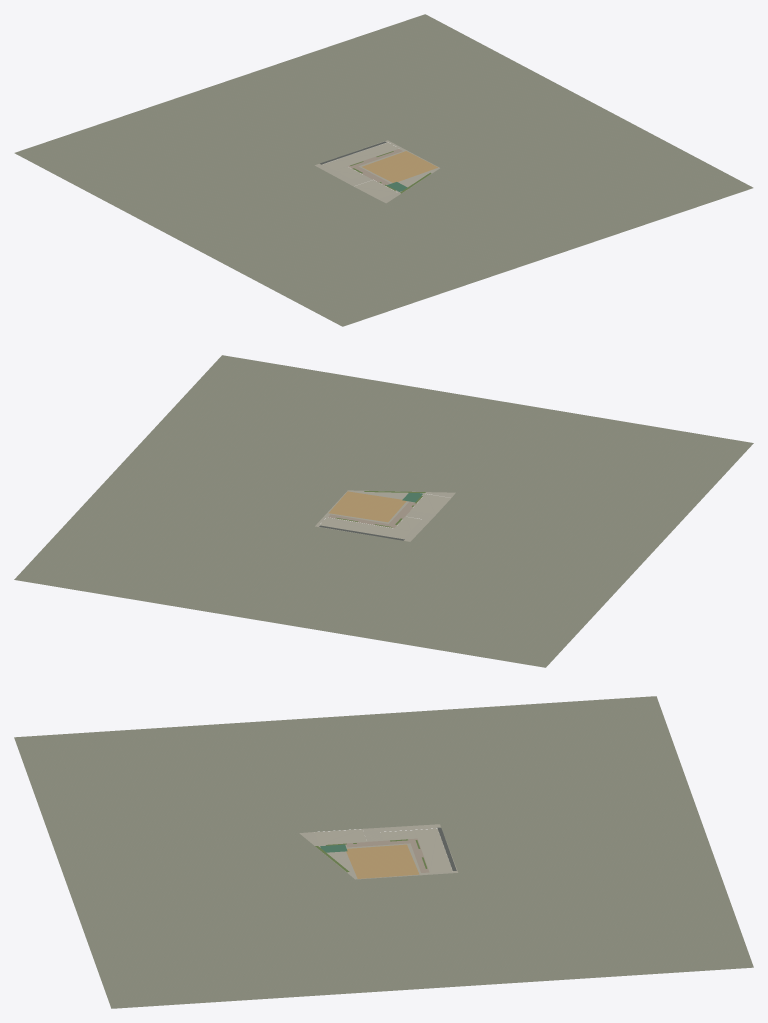
3 renders of one model, top to bottom at view 1: azimuth 30°, elevation 25°; view 2: azimuth 150°, elevation 25°; view 3: azimuth 270°, elevation 25°, orthographic. The views are drawn at different scales.
Parts seen in each view (by area): view 1: ground_context-estimated, surface_sports-field, surface_school-walk, surface_underbuilding-main; view 2: ground_context-estimated, surface_sports-field, surface_school-walk, surface_underbuilding-main, surface_underbuilding-gyeonginHall; view 3: ground_context-estimated, surface_sports-field, surface_school-walk, surface_underbuilding-main, surface_underbuilding-gyeonginHall.
Boxes of the visible parts, x1,y1,x2,y2 form: ground_context-estimated: (14, 14, 753, 326); surface_sports-field: (362, 151, 438, 182); surface_school-walk: (315, 140, 439, 203); surface_underbuilding-main: (323, 142, 398, 170); ground_context-estimated: (14, 355, 753, 667); surface_sports-field: (328, 491, 406, 522); surface_school-walk: (315, 490, 455, 541); surface_underbuilding-main: (319, 517, 410, 539); surface_underbuilding-gyeonginHall: (410, 494, 450, 514); ground_context-estimated: (14, 696, 753, 1008); surface_sports-field: (346, 844, 419, 878); surface_school-walk: (299, 824, 458, 879); surface_underbuilding-main: (414, 828, 452, 872); surface_underbuilding-gyeonginHall: (314, 829, 366, 844).
Size of the model in its own units: 729 by 0.15 by 729.
Materials: 7 (7 with a texture image).
